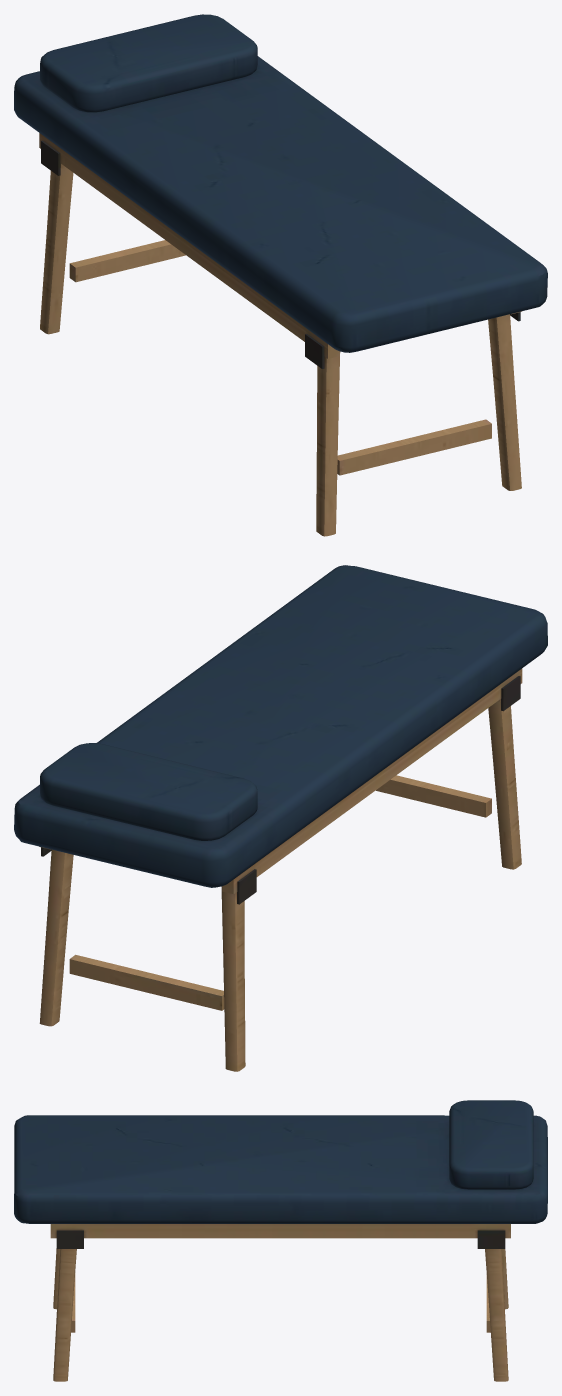
The model's file is massage_bed.glb.
3 views of the same model, one above another, from view 1: azimuth 30°, elevation 25°; view 2: azimuth 150°, elevation 25°; view 3: azimuth 270°, elevation 25° (orthographic). The views are drawn at different scales.
Visible parts, largest first — view 1: massage_bed; view 2: massage_bed; view 3: massage_bed.
Part boxes in pixels (<box>): massage_bed: <box>14,14,547,536</box>; massage_bed: <box>14,565,547,1071</box>; massage_bed: <box>14,1100,547,1381</box>.
Size of the model in its own units: 0.7014 by 0.8201 by 1.9.
1 material, 1 textured.
